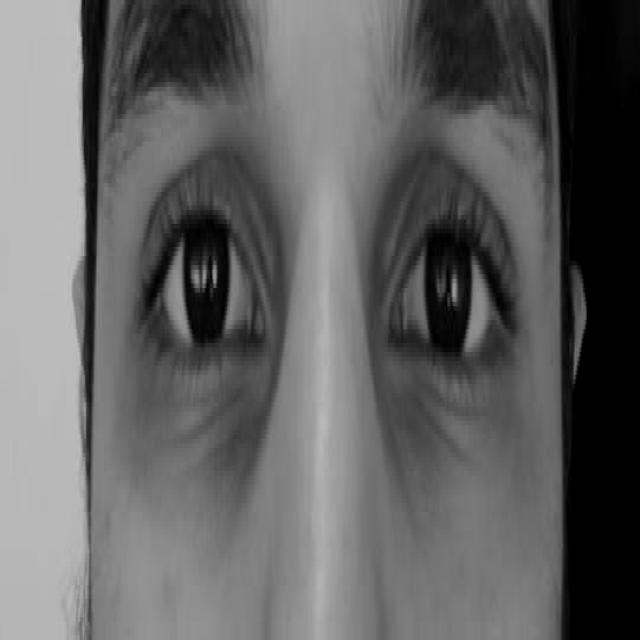real: (118, 20, 545, 476)
